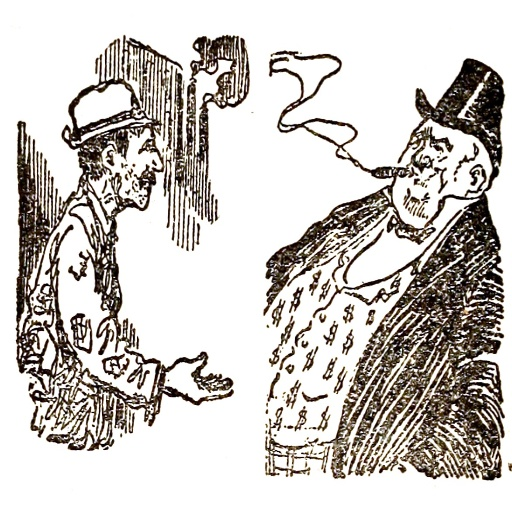hand: (160, 359, 218, 410)
